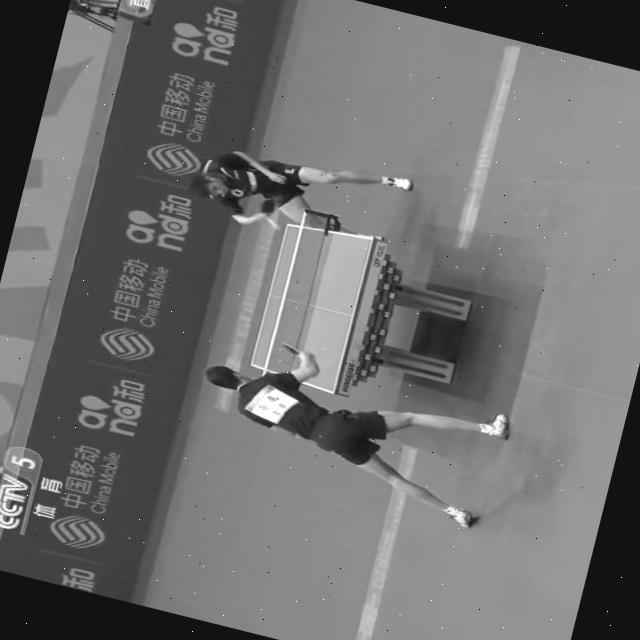ping-pong-ball: (262, 216, 278, 228)
